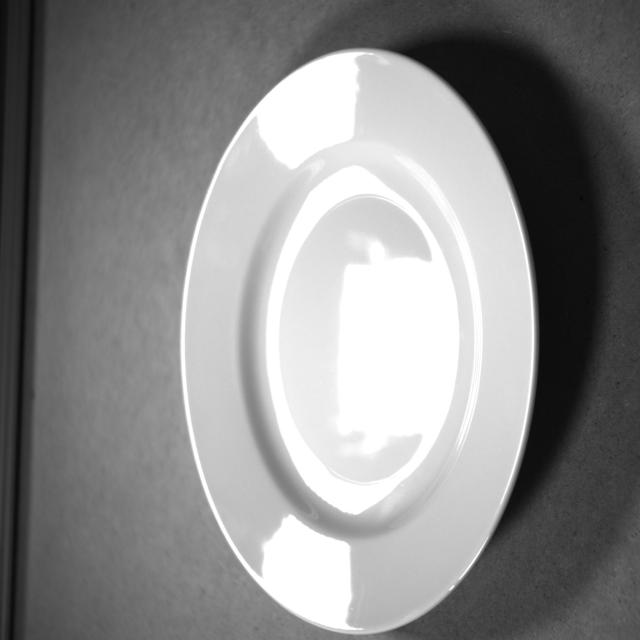plate: (181, 50, 536, 633)
